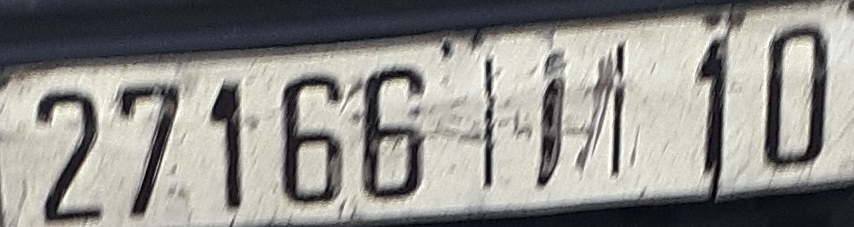0: (762, 24, 832, 167)
1: (201, 77, 251, 220), (684, 32, 732, 176)
2: (31, 85, 108, 226)
6: (279, 65, 347, 212), (359, 65, 429, 202)
7: (113, 78, 182, 221)
a: (528, 45, 572, 194)
